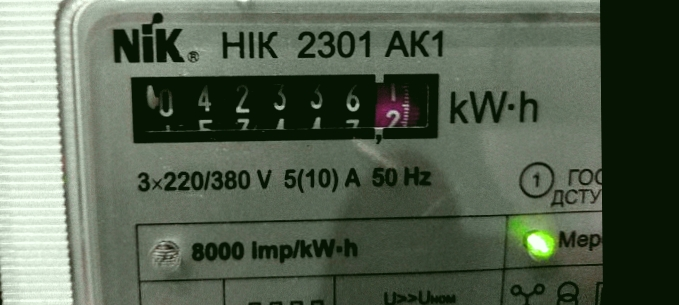0: (155, 85, 174, 119)
1: (385, 77, 397, 103)
2: (231, 81, 252, 115), (382, 108, 399, 129)
3: (268, 79, 286, 112), (307, 79, 324, 111)
4: (195, 81, 212, 113)
6: (342, 81, 362, 115)
screen: (116, 60, 452, 154)
